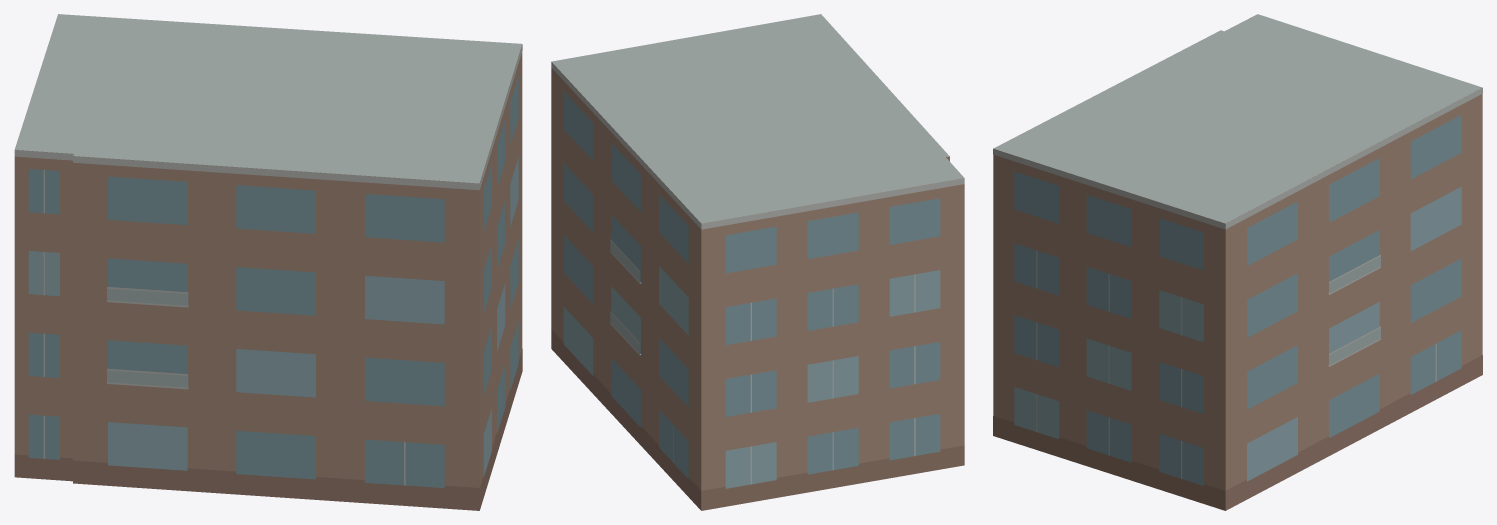
Rendered from survey-upis-32657187.glb.
3 views of the same model, side by side, from view 1: azimuth 30°, elevation 25°; view 2: azimuth 150°, elevation 25°; view 3: azimuth 270°, elevation 25° (orthographic). The views are drawn at different scales.
Parts seen in each view (by area): view 1: survey-upis-32657187.tmp; view 2: survey-upis-32657187.tmp; view 3: survey-upis-32657187.tmp.
Boxes of the visible parts, x1=… form: survey-upis-32657187.tmp: x1=14, y1=14, x2=522, y2=510; survey-upis-32657187.tmp: x1=551, y1=14, x2=964, y2=510; survey-upis-32657187.tmp: x1=993, y1=14, x2=1482, y2=510.
Size of the model in its own units: 18.47 by 11.8 by 18.24.
